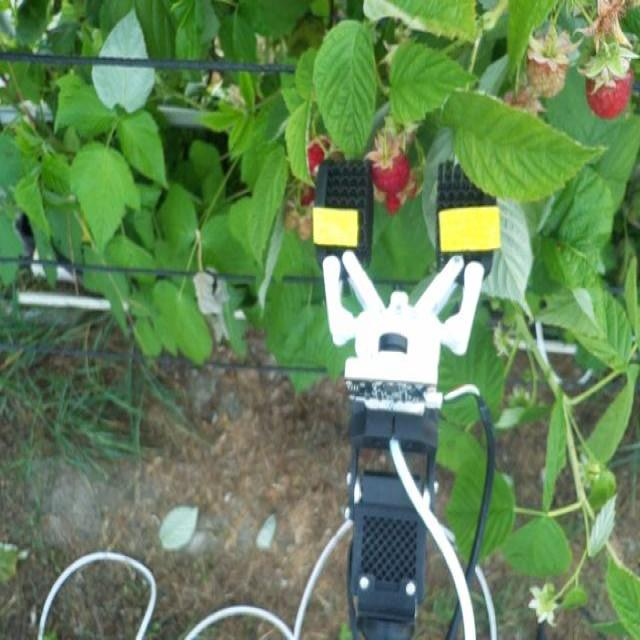Riped berries: (582, 46, 632, 125), (366, 140, 409, 191), (304, 130, 336, 172), (382, 184, 414, 214), (300, 184, 321, 204)
